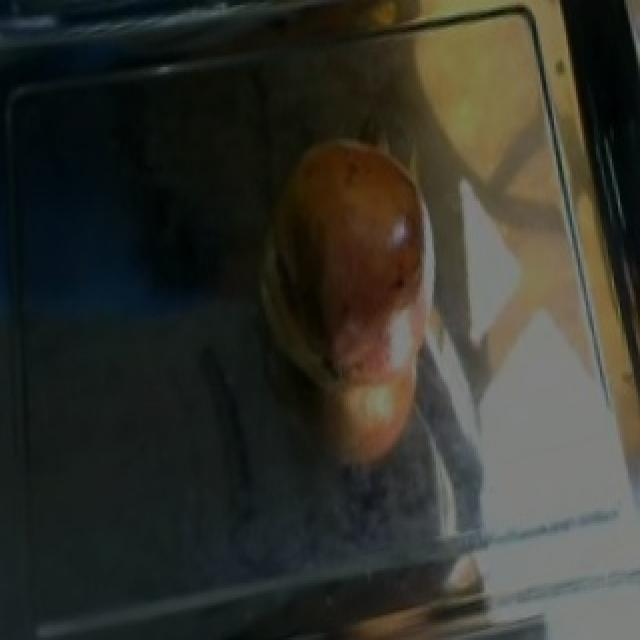fruit: (248, 119, 452, 372)
